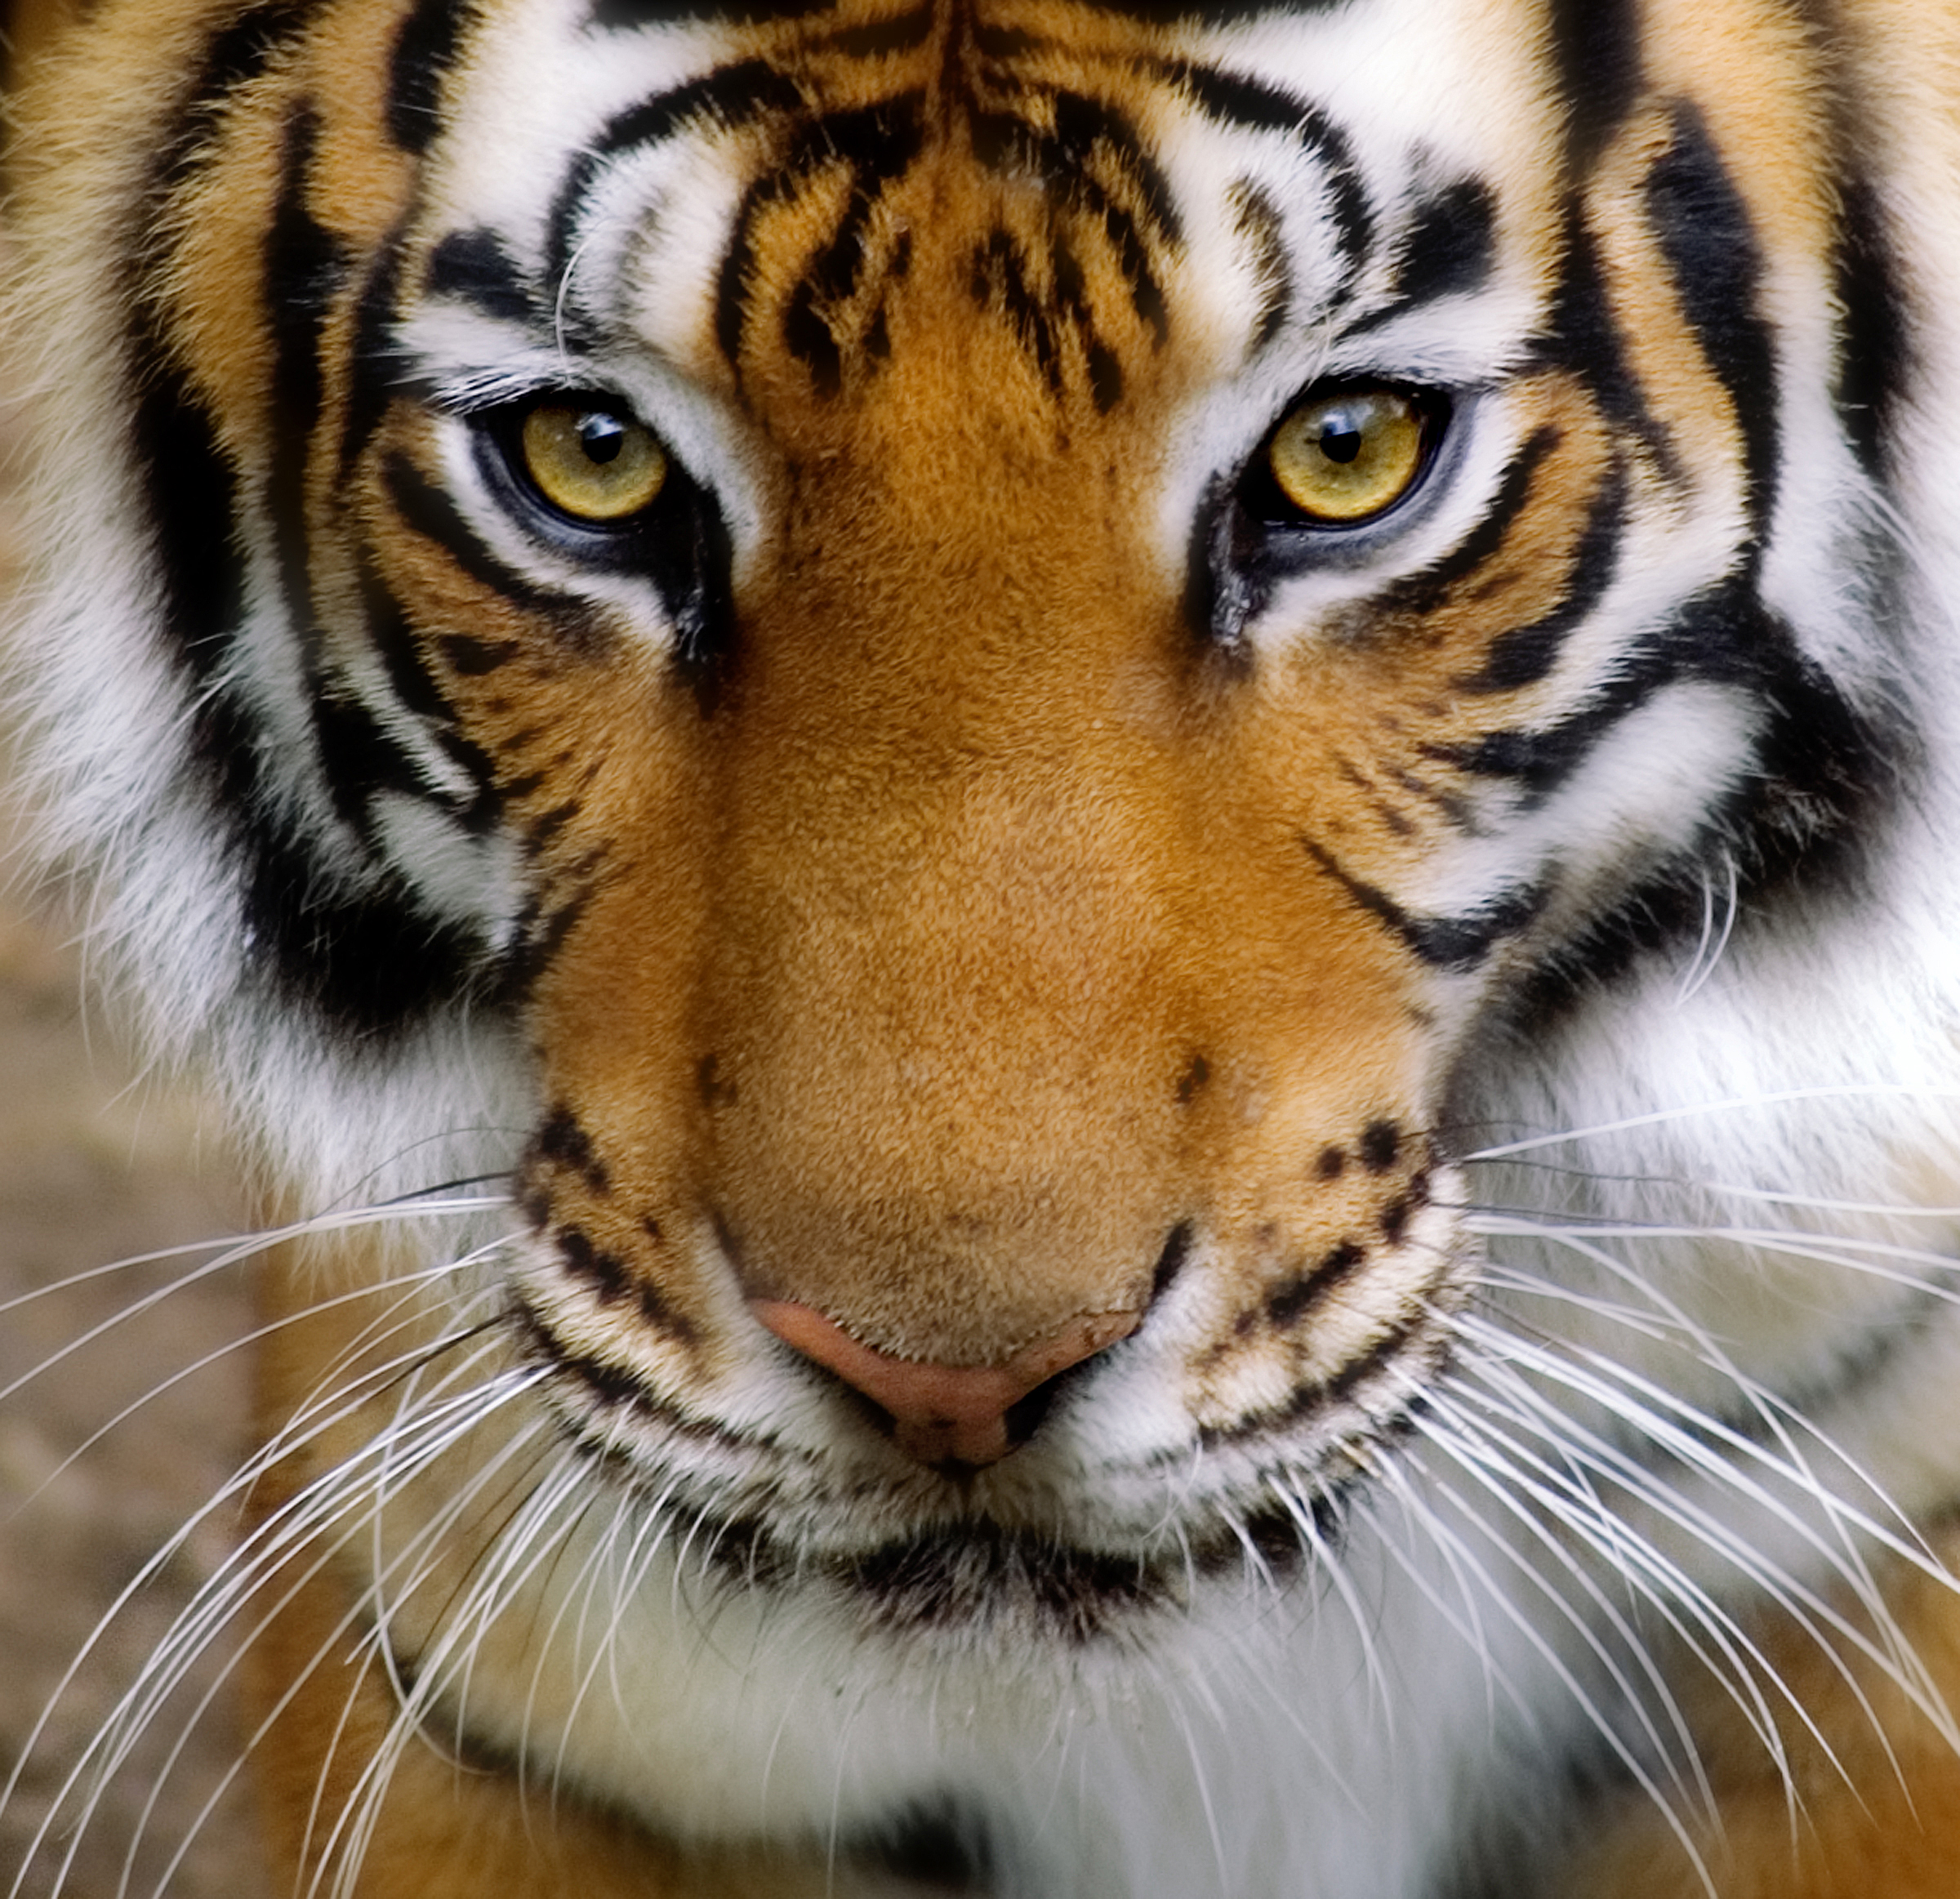tiger: (51, 25, 1914, 1727)
